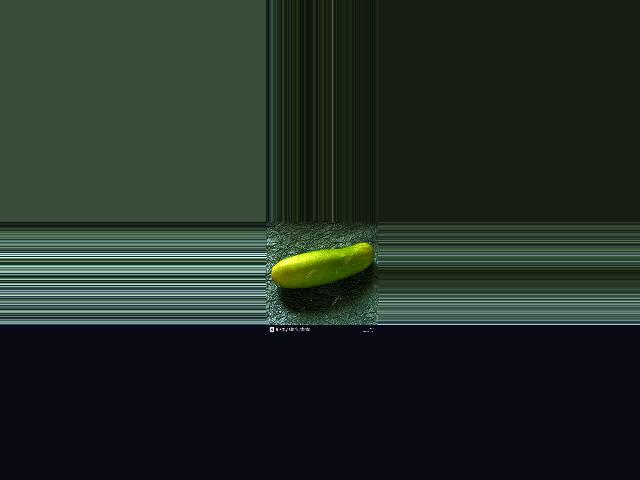cucumber: (271, 242, 375, 288)
